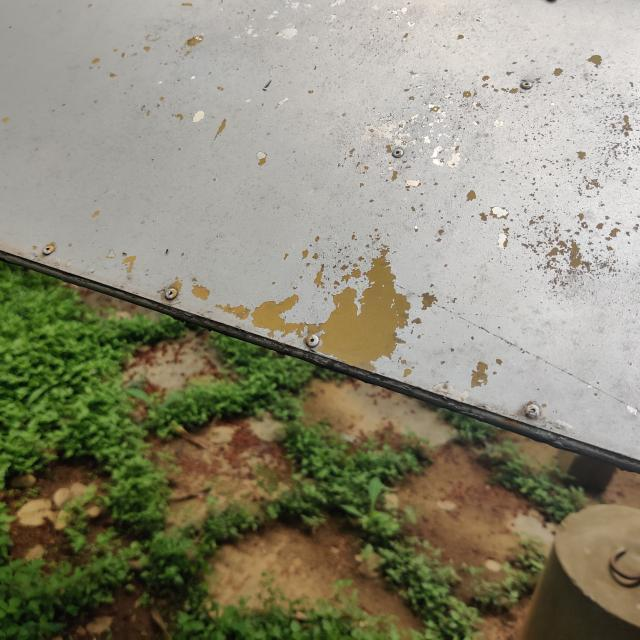Paint-off: (250, 248, 411, 368)
